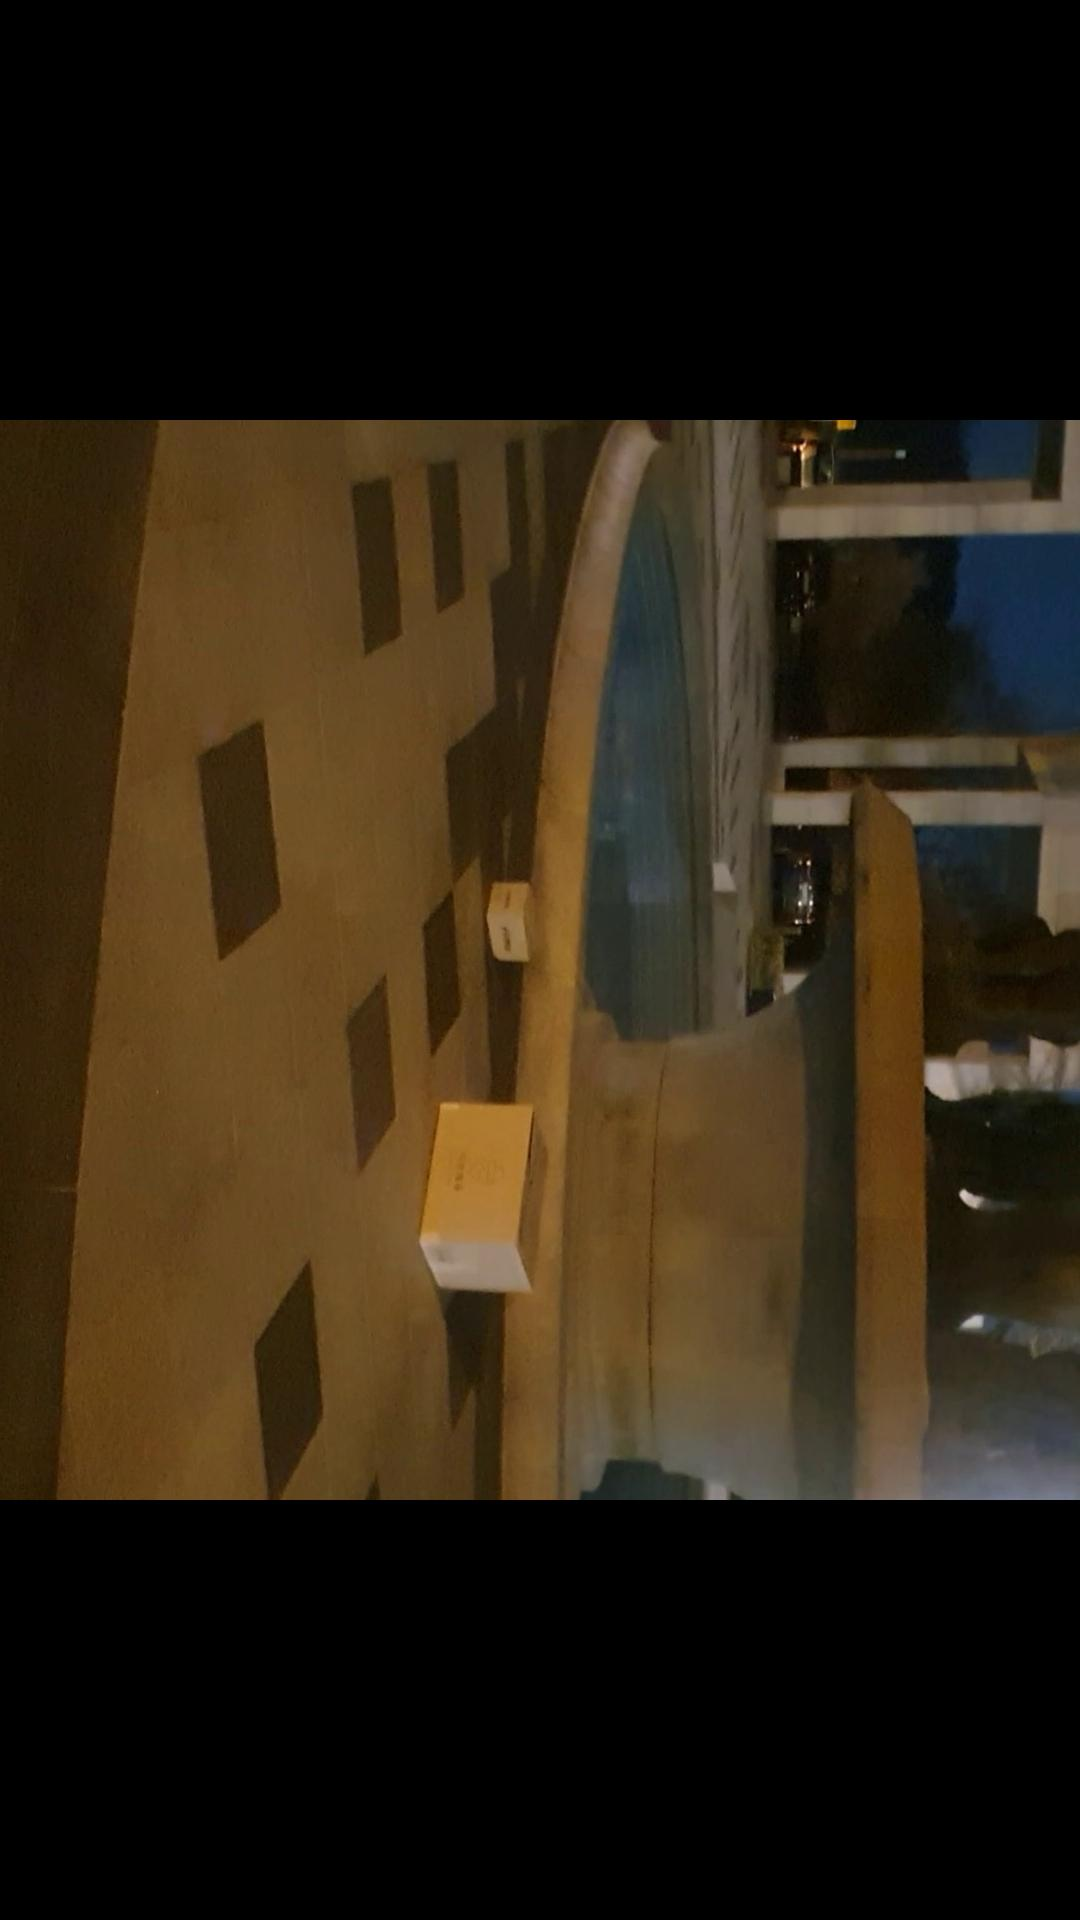Box: (415, 1098, 553, 1294), (480, 868, 547, 971)
